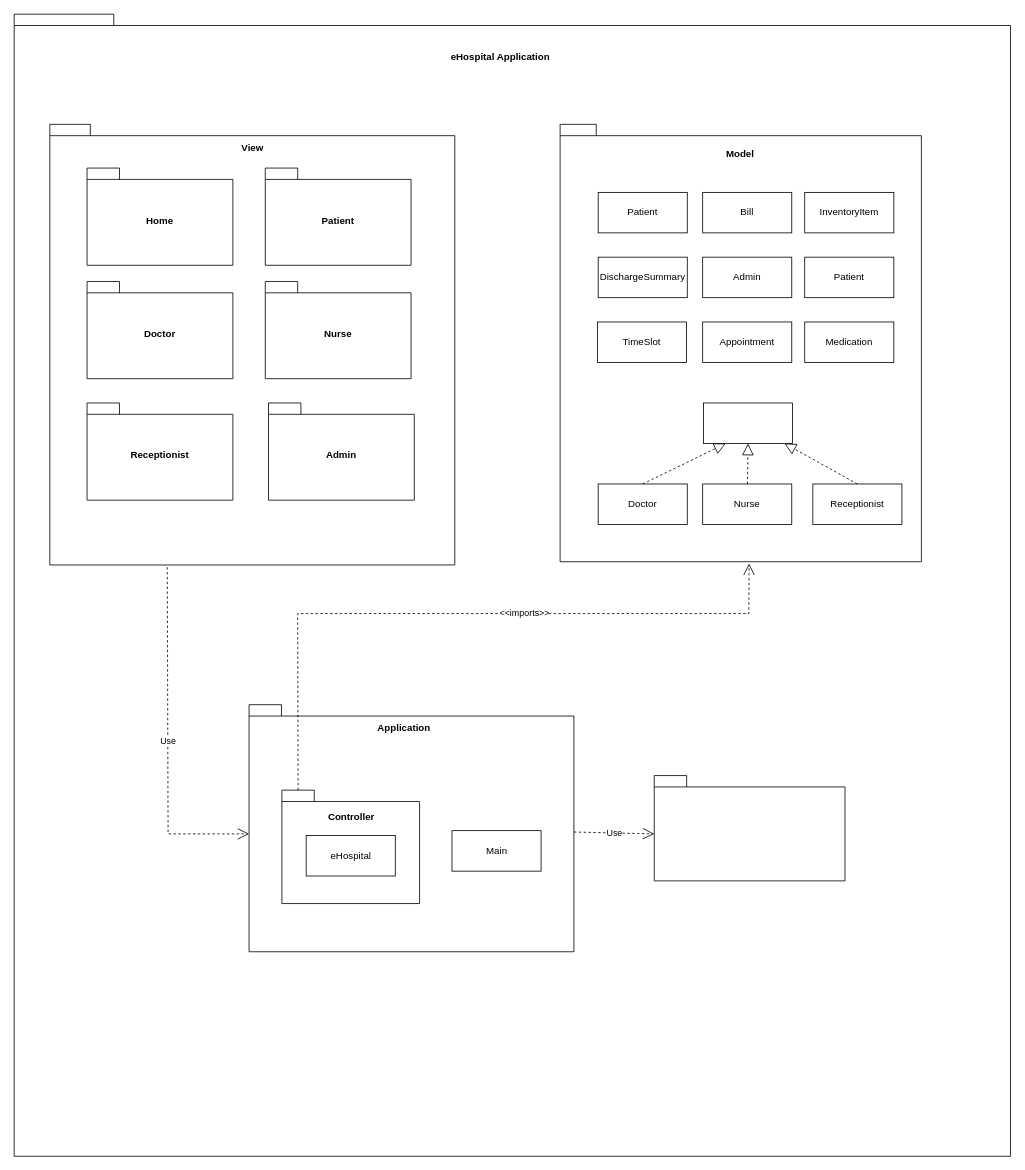
Image size: 1025x1170. Some labels were removed from this diagram. Here are the shapes that lost their labels. From the top down, the box of each, then its label:
(703, 402, 793, 443): Employee
(653, 775, 845, 881): Resources
